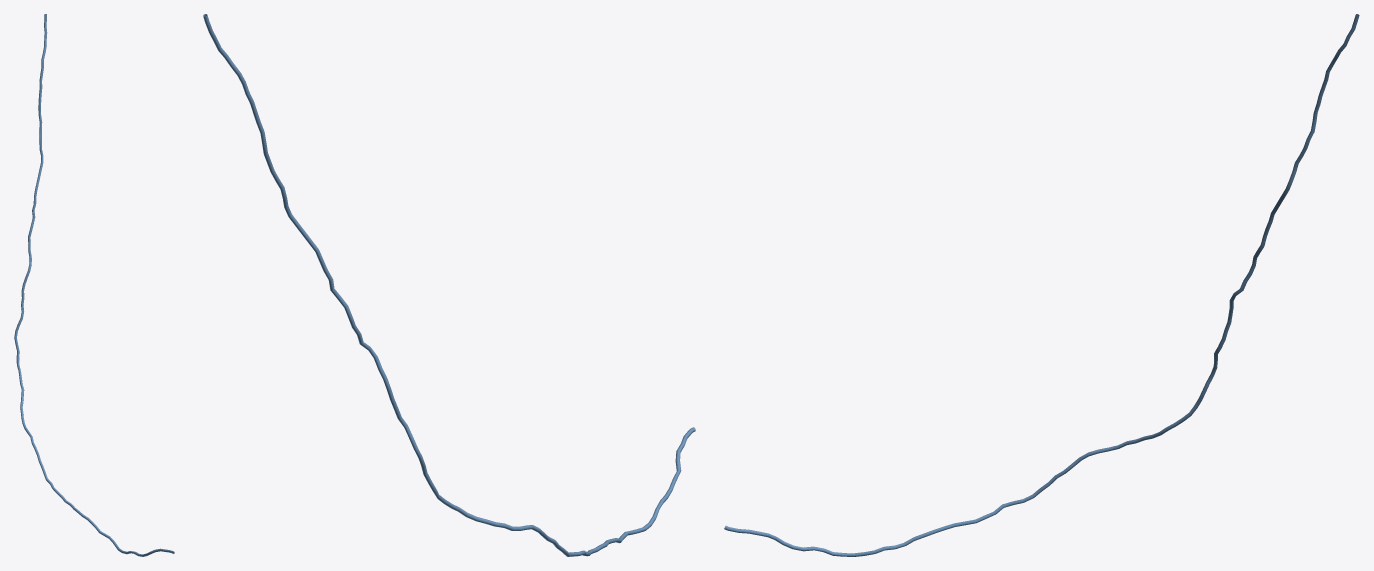
File: sweep202.fbx
The picture shows the model from 3 angles, left to right: view 1: azimuth 30°, elevation 25°; view 2: azimuth 150°, elevation 25°; view 3: azimuth 270°, elevation 25°; orthographic projection. The views are drawn at different scales.
Visible parts, largest first — view 1: sweep202; view 2: sweep202; view 3: sweep202.
Boxes of the visible parts, x1,y1,x2,y2 form: sweep202: (14, 14, 174, 556); sweep202: (203, 14, 695, 556); sweep202: (724, 14, 1359, 556).
Bounding box in the file's own units: 0.9334 × 3.32 × 3.13.
